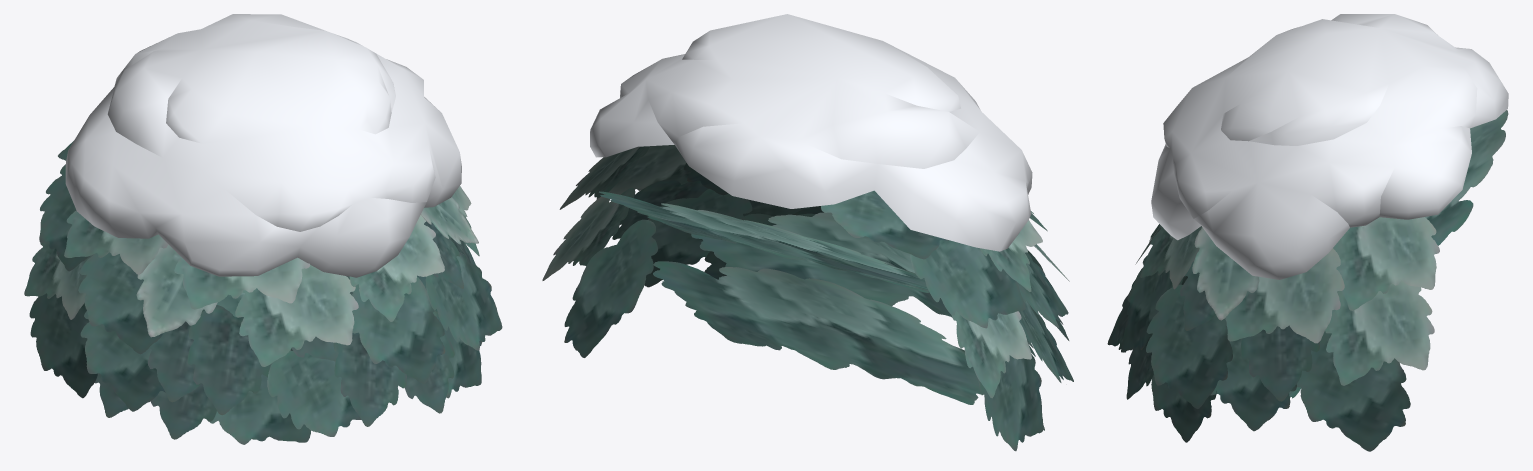
The model's file is red-hibiscus-winter.glb.
3 renders of one model, left to right at view 1: azimuth 30°, elevation 25°; view 2: azimuth 150°, elevation 25°; view 3: azimuth 270°, elevation 25°, orthographic. The views are drawn at different scales.
Bounding box in the file's own units: 10.8 × 8.34 × 9.34.
Materials: 2 (1 with a texture image).
